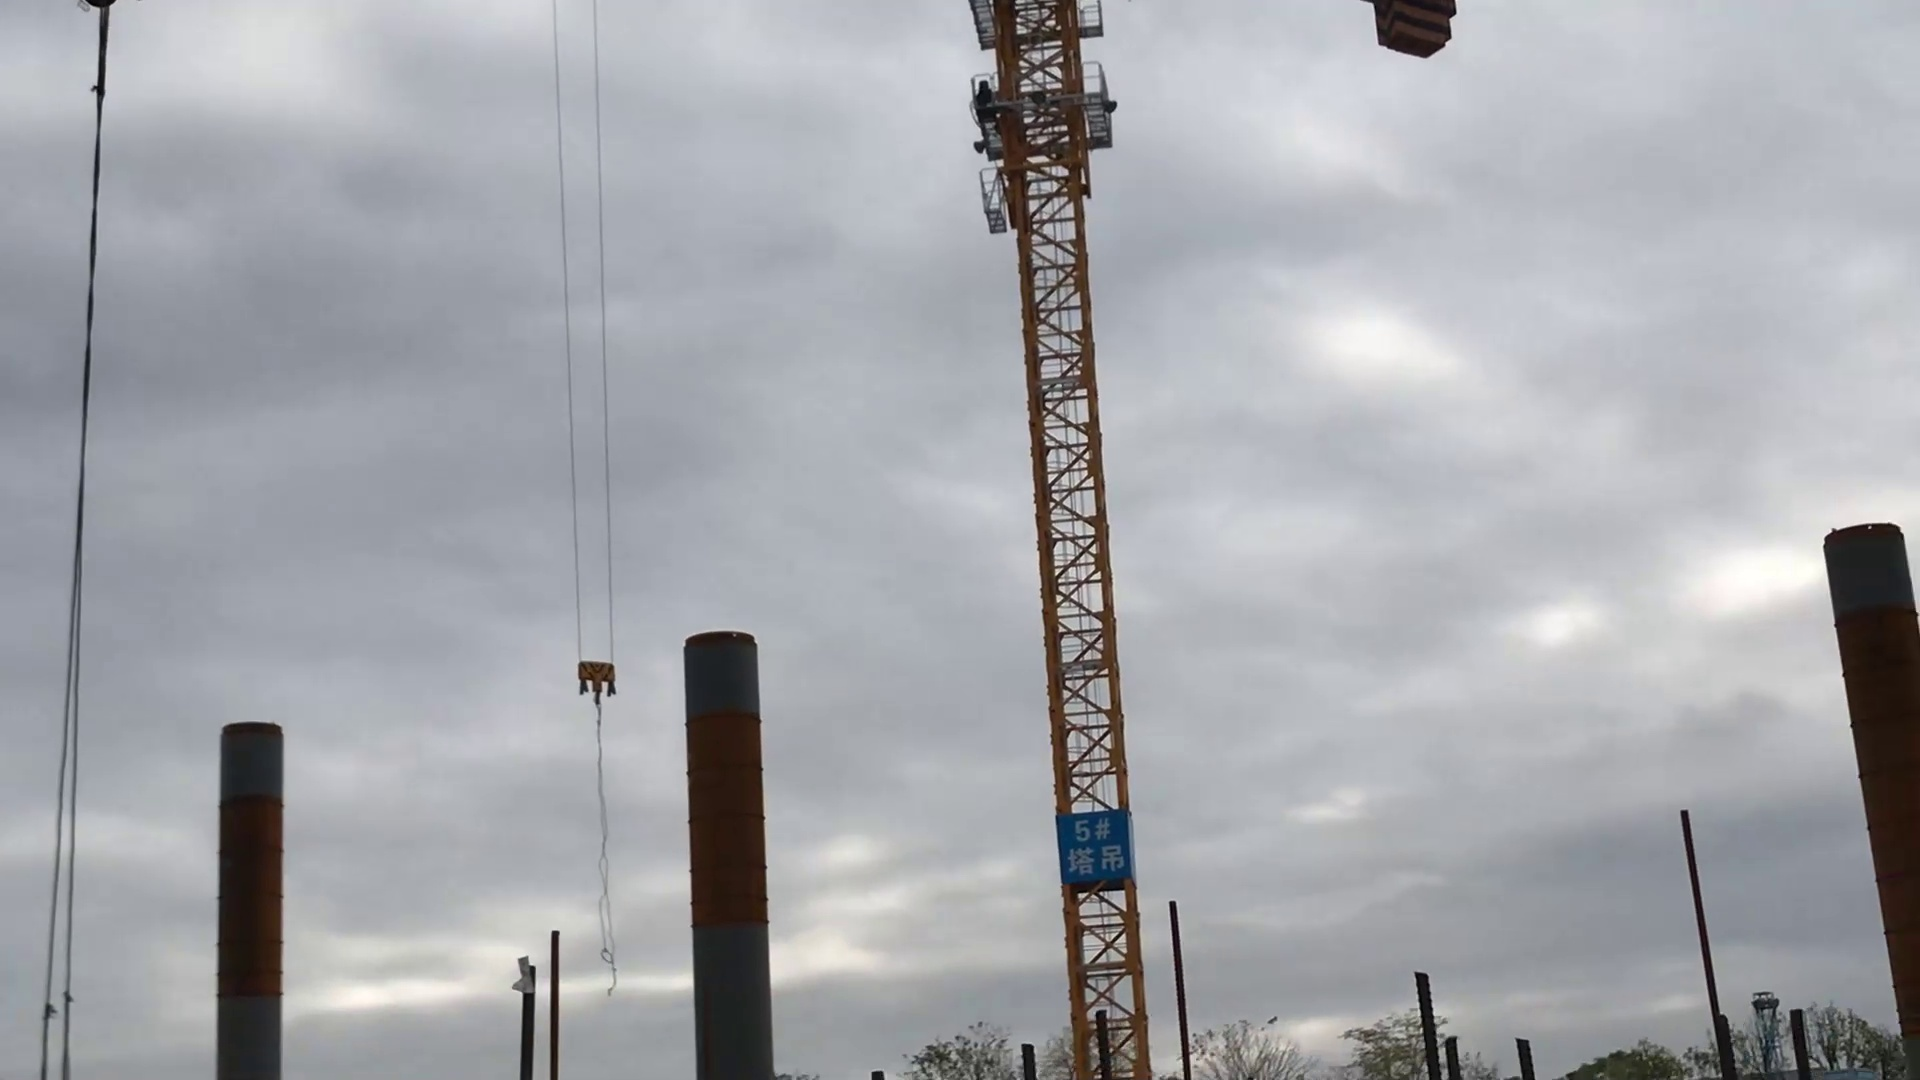hook: (574, 659, 616, 696)
